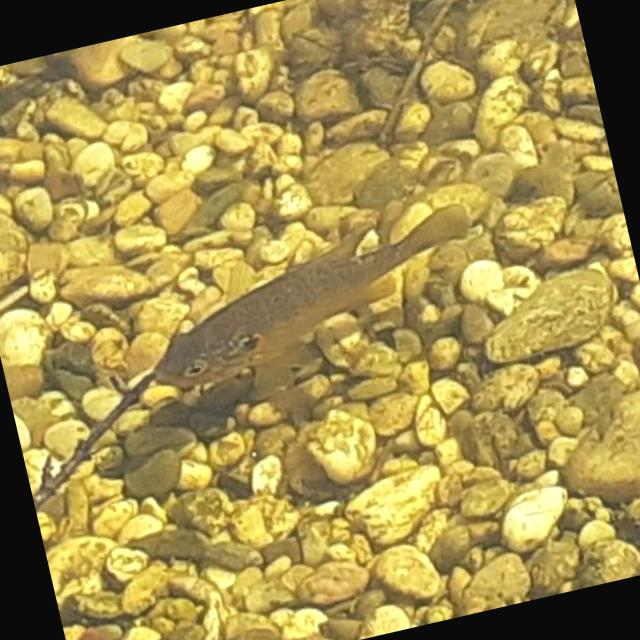Gunes Levregi: (130, 195, 502, 404)
